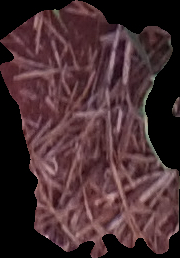soil: (1, 1, 180, 257)
